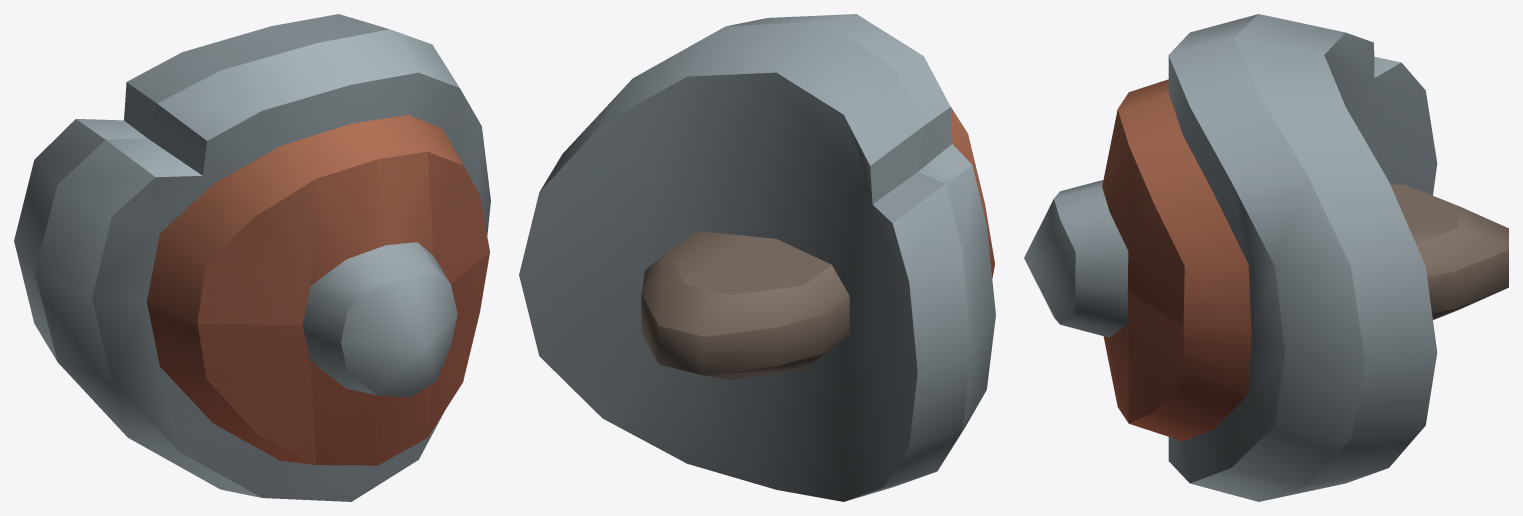
The model's file is shield_round.glb.
The picture shows the model from 3 angles, left to right: view 1: azimuth 30°, elevation 25°; view 2: azimuth 150°, elevation 25°; view 3: azimuth 270°, elevation 25°; orthographic projection. The views are drawn at different scales.
Parts seen in each view (by area): view 1: shield_round; view 2: shield_round; view 3: shield_round.
Part boxes in pixels (box(x1,y1,x2,y2)): shield_round: box(14, 14, 490, 501); shield_round: box(519, 14, 995, 501); shield_round: box(1024, 14, 1508, 501).
Size of the model in its own units: 1 by 1 by 1.
1 material, 1 textured.
